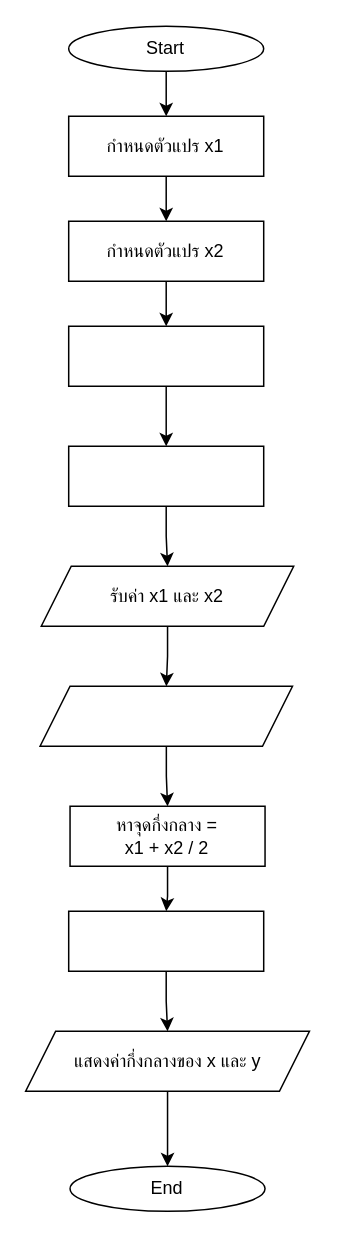
This 338x1238 diagram has some shape labels left out. Here are the shapes that lost their labels. From the top down, the box of each, then its label:
(67, 325, 264, 386): กำหนดตัวแปร y1
(67, 445, 264, 506): กำหนดตัวแปร y2
(39, 685, 292, 746): รับค่า y1 และ y2
(67, 910, 264, 971): หาจุดกึ่งกลาง = y1 + y2 / 2
